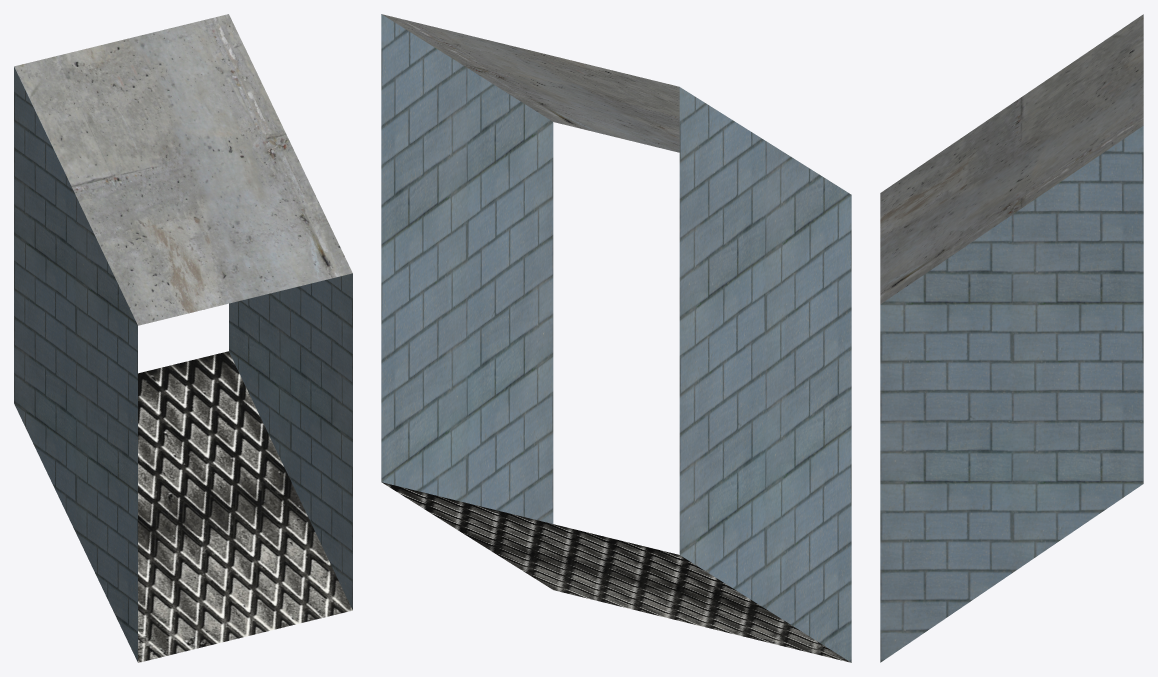
Rendered from Escalera.fbx.
3 views of the same model, side by side, from view 1: azimuth 30°, elevation 25°; view 2: azimuth 150°, elevation 25°; view 3: azimuth 270°, elevation 25° (orthographic). The views are drawn at different scales.
Parts seen in each view (by area): view 1: Plane; view 2: Plane; view 3: Plane.
Part boxes in pixels (<box>): Plane: <box>14,14,352,662</box>; Plane: <box>381,14,851,662</box>; Plane: <box>880,14,1143,662</box>.
Bounding box in the file's own units: 4 × 9 × 4.
